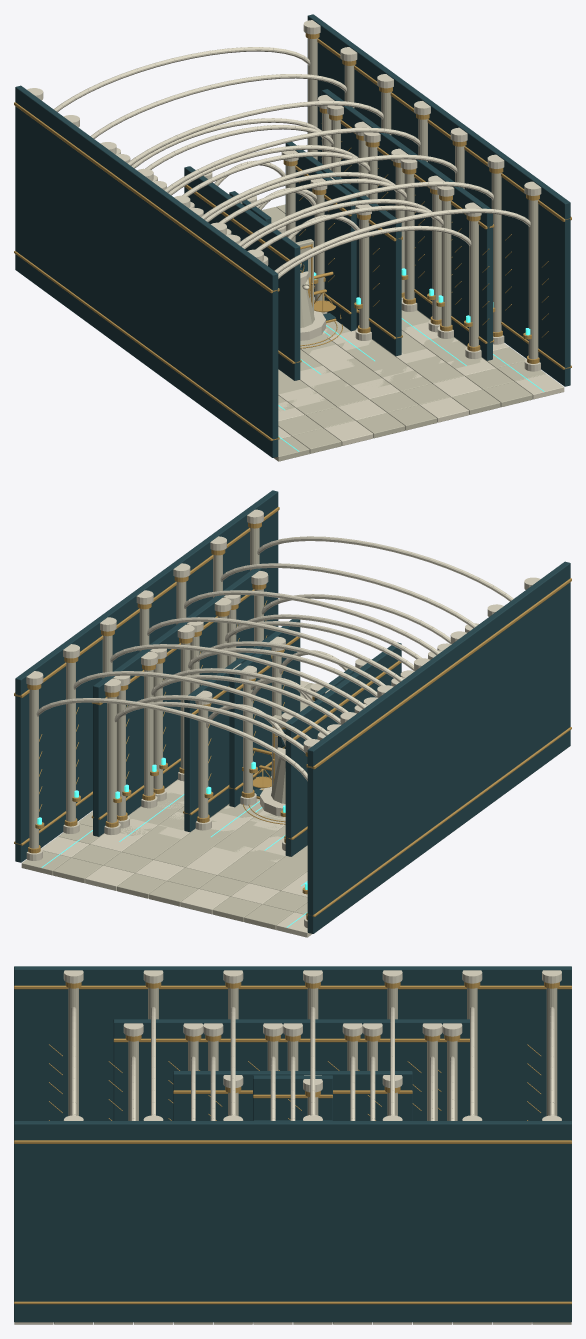
File: balance-temple-v03.glb
3 views of the same model, one above another, from view 1: azimuth 30°, elevation 25°; view 2: azimuth 150°, elevation 25°; view 3: azimuth 270°, elevation 25° (orthographic). The views are drawn at different scales.
Parts seen in each view (by area): view 1: hall_lever_Midnight teal, hall_lever_Carved limestone, hall_lever_Ivory limestone, hall_entry_Midnight teal, hall_order_Carved limestone, hall_order_Ivory limestone, hall_twin_Midnight teal, hall_twin_Carved limestone, hall_twin_Ivory limestone, hall_lever_Aged brass, hall_corridor_Midnight teal, hall_order_Midnight teal (+7 smaller); view 2: hall_lever_Midnight teal, hall_lever_Carved limestone, hall_lever_Ivory limestone, hall_entry_Midnight teal, hall_order_Midnight teal, hall_order_Carved limestone, hall_order_Ivory limestone, hall_twin_Carved limestone, hall_twin_Ivory limestone, hall_lever_Aged brass, hall_corridor_Midnight teal, hall_entry_Ivory limestone (+5 smaller); view 3: hall_lever_Midnight teal, hall_order_Midnight teal, hall_lever_Aged brass, hall_lever_Carved limestone, hall_twin_Midnight teal, hall_entry_Midnight teal, hall_lever_Ivory limestone, hall_order_Carved limestone, hall_corridor_Midnight teal, hall_twin_Carved limestone, hall_order_Ivory limestone, hall_order_Aged brass (+3 smaller).
Part boxes in pixels (x1,y1,x2,y2): hall_lever_Midnight teal: (15,14,570,457); hall_lever_Carved limestone: (27,20,564,445); hall_lever_Ivory limestone: (261,38,545,461); hall_entry_Midnight teal: (184,142,401,380); hall_order_Carved limestone: (115,95,481,407); hall_order_Ivory limestone: (278,113,481,411); hall_twin_Midnight teal: (331,96,482,345); hall_twin_Carved limestone: (116,105,458,392); hall_twin_Ivory limestone: (278,120,466,402); hall_lever_Aged brass: (14,33,571,440); hall_corridor_Midnight teal: (229,170,356,331); hall_order_Midnight teal: (321,89,492,360); hall_lever_Midnight teal: (15,490,570,933); hall_lever_Carved limestone: (26,509,540,937); hall_lever_Ivory limestone: (21,528,313,929); hall_entry_Midnight teal: (184,619,401,856); hall_order_Midnight teal: (93,568,264,836); hall_order_Carved limestone: (104,571,478,886); hall_order_Ivory limestone: (107,589,307,883); hall_twin_Carved limestone: (113,595,451,873); hall_twin_Ivory limestone: (117,609,307,874); hall_lever_Aged brass: (14,507,571,919); hall_corridor_Midnight teal: (229,646,354,807); hall_entry_Ivory limestone: (198,655,285,847); hall_lever_Midnight teal: (14,966,571,1322); hall_order_Midnight teal: (113,1019,469,1120); hall_lever_Aged brass: (14,982,571,1304); hall_lever_Carved limestone: (14,970,561,1324); hall_twin_Midnight teal: (134,1019,450,1120); hall_entry_Midnight teal: (173,1071,412,1120); hall_lever_Ivory limestone: (54,988,571,1324); hall_order_Carved limestone: (123,1023,462,1120); hall_corridor_Midnight teal: (253,1075,332,1120); hall_twin_Carved limestone: (183,1023,442,1120); hall_order_Ivory limestone: (128,1041,457,1120); hall_order_Aged brass: (108,1035,469,1120).
Size of the model in its own units: 18.91 by 11.3 by 28.
